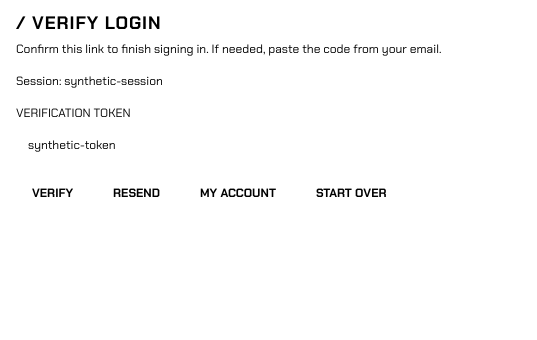
Test: Magic link mission return › explains original-tab recovery when the mission draft is missing
The image size is (537, 340).
Click the button with test id "auth-verify-submit": (52, 193) [16, 177, 89, 209]
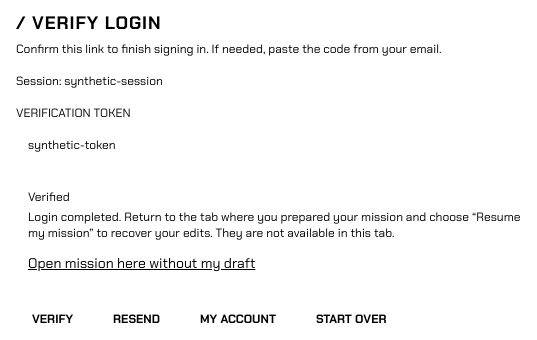
Expected: the text "Return to the tab where you prepared your mission" is shown, [28, 209, 520, 241]
